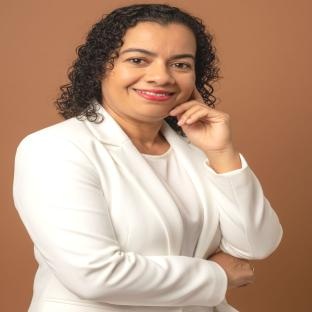Human: (14, 4, 283, 312)
